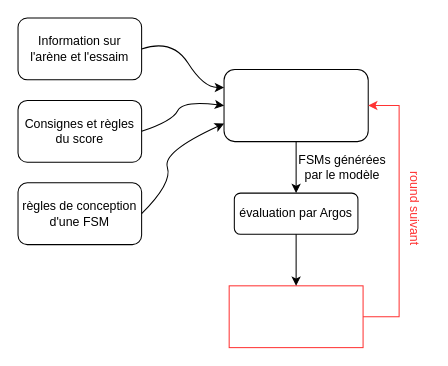
Some shapes in this 448 by 366 pixel diagram are drawn without their labels. Here are the shapes that lost their labels. From the top down, the centre of each, then its label:
At (x=295, y=105): "Prompt".
At (x=295, y=316): "Classement, scores et mémoire d'erreurs".
